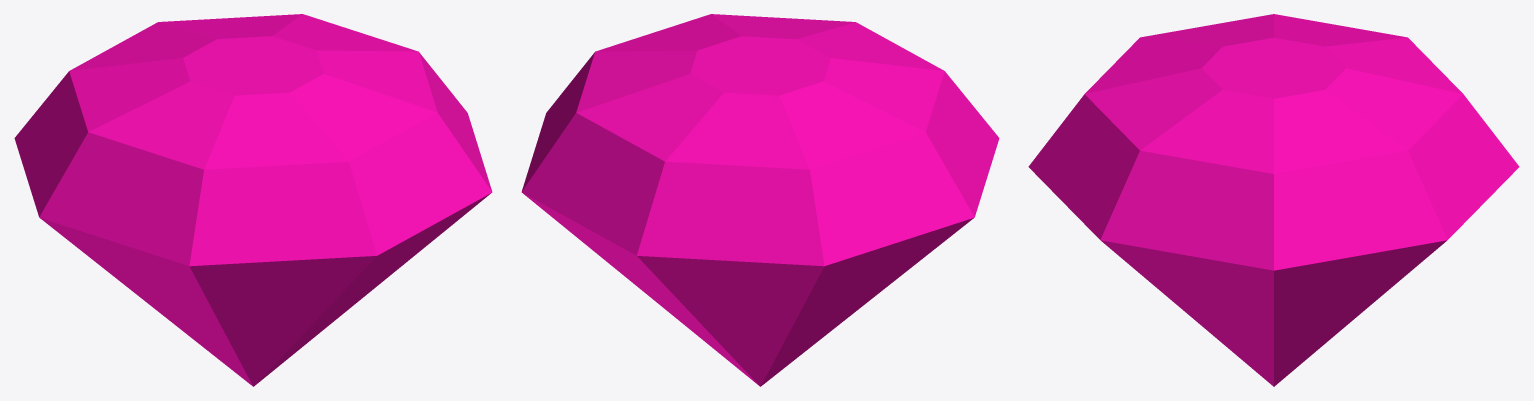
The model's file is Gem_04.glb.
3 views of the same model, side by side, from view 1: azimuth 30°, elevation 25°; view 2: azimuth 150°, elevation 25°; view 3: azimuth 270°, elevation 25° (orthographic).
Parts seen in each view (by area): view 1: Gem_04; view 2: Gem_04; view 3: Gem_04.
Part boxes in pixels (box(x1,y1,x2,y2)): Gem_04: box(14, 14, 492, 386); Gem_04: box(521, 14, 999, 386); Gem_04: box(1028, 14, 1519, 386).
Size of what is drawn, in the model's own units: 0.3898 by 0.2791 by 0.3898.
1 material, 1 textured.
